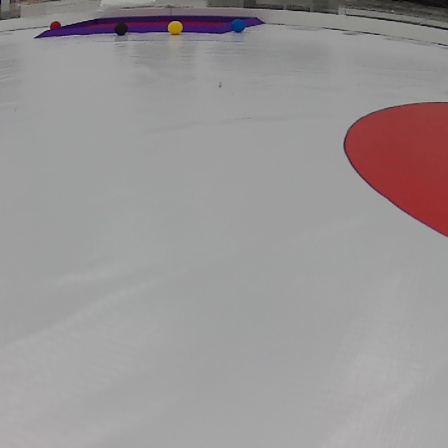black: (115, 22, 127, 36)
blue: (230, 20, 246, 32)
red: (50, 21, 60, 27)
red_aim: (40, 14, 266, 37)
red_base: (335, 97, 448, 242)
yellow: (168, 22, 182, 34)
